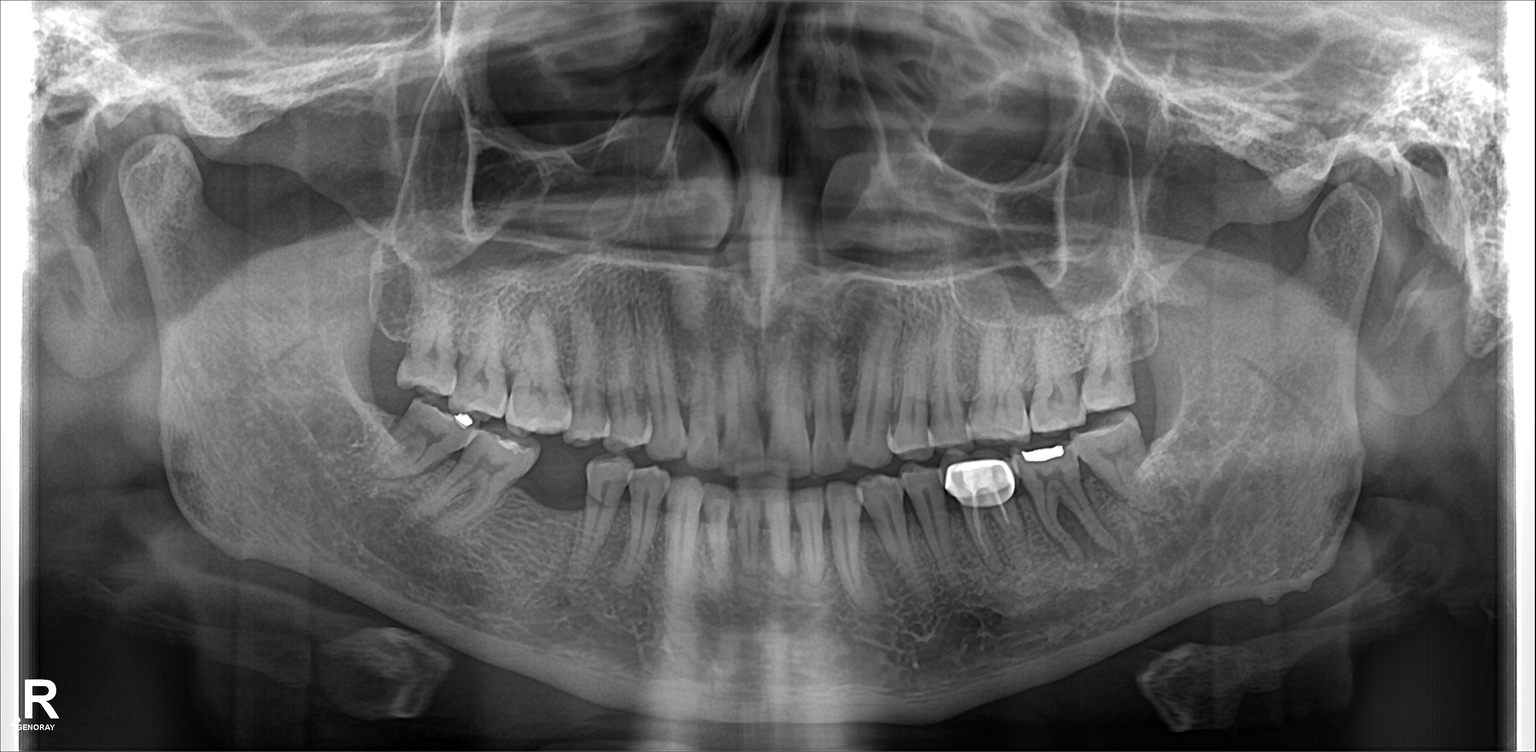Endodontically Treated Tooth: (953, 456, 1010, 563)
Impacted Third Molar: (369, 410, 477, 463)
Missing Tooth: (536, 452, 593, 559), (1125, 296, 1180, 396), (365, 289, 405, 374)
